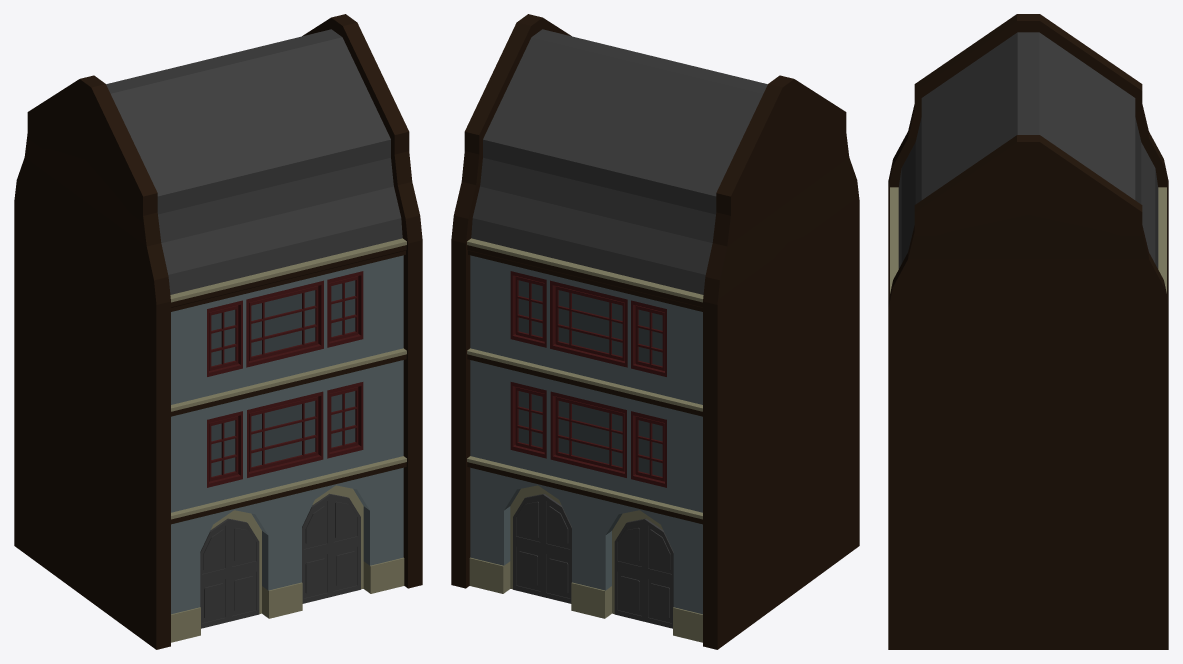
3 views of the same model, side by side, from view 1: azimuth 30°, elevation 25°; view 2: azimuth 150°, elevation 25°; view 3: azimuth 270°, elevation 25° (orthographic).
Parts seen in each view (by area): view 1: Building2_Small.001_Cube.057; view 2: Building2_Small.001_Cube.057; view 3: Building2_Small.001_Cube.057.
Part boxes in pixels (x1,y1,x2,y2): Building2_Small.001_Cube.057: (14,14,422,649); Building2_Small.001_Cube.057: (451,14,859,649); Building2_Small.001_Cube.057: (888,14,1168,649).
Size of the model in its own units: 645 by 1192 by 597.
